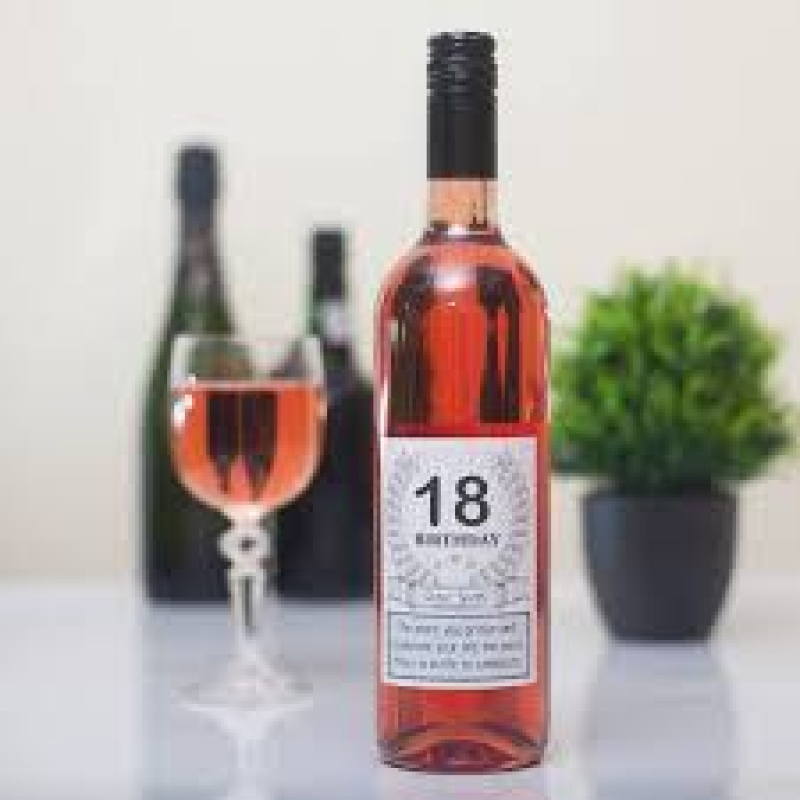wine: (381, 32, 550, 769)
